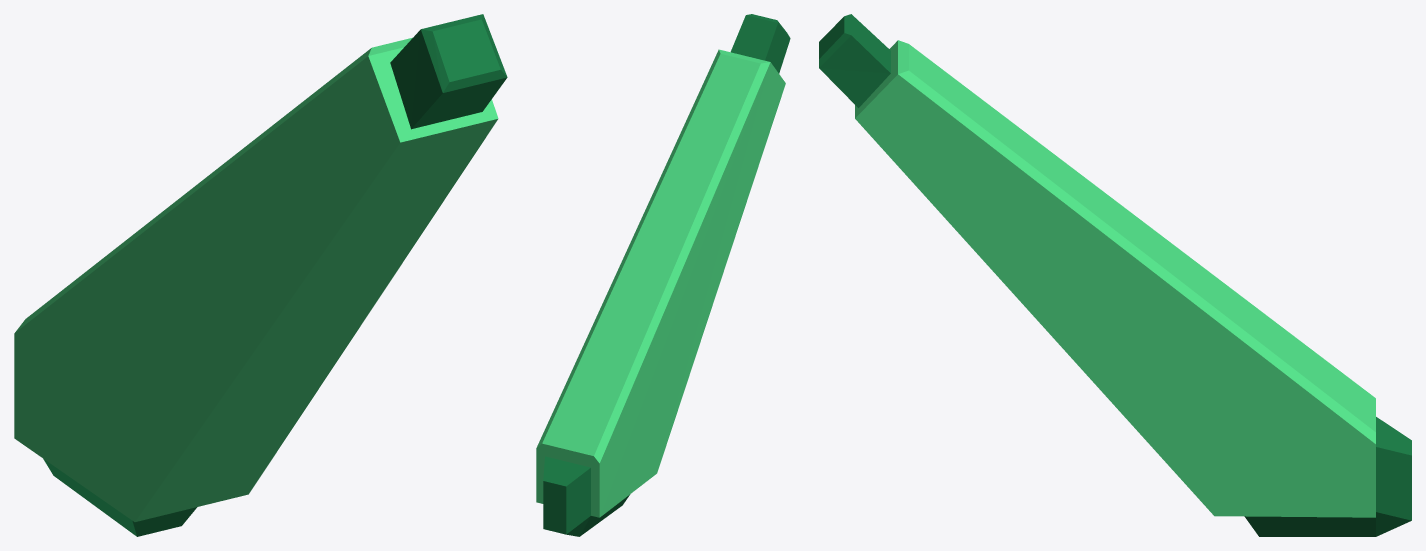
Rendered from Arm.FBX.
3 views of the same model, side by side, from view 1: azimuth 30°, elevation 25°; view 2: azimuth 150°, elevation 25°; view 3: azimuth 270°, elevation 25° (orthographic). The views are drawn at different scales.
Parts seen in each view (by area): view 1: VIFS001, VIFS002; view 2: VIFS001, VIFS002; view 3: VIFS001, VIFS002.
Part boxes in pixels (x1=…): VIFS001: x1=14, y1=37, x2=498, y2=521; VIFS002: x1=43, y1=14, x2=507, y2=536; VIFS001: x1=536, y1=49, x2=785, y2=517; VIFS002: x1=543, y1=14, x2=790, y2=536; VIFS001: x1=855, y1=40, x2=1375, y2=517; VIFS002: x1=819, y1=14, x2=1411, y2=536.
Bounding box in the file's own units: 0.11 × 0.62 × 0.66.
